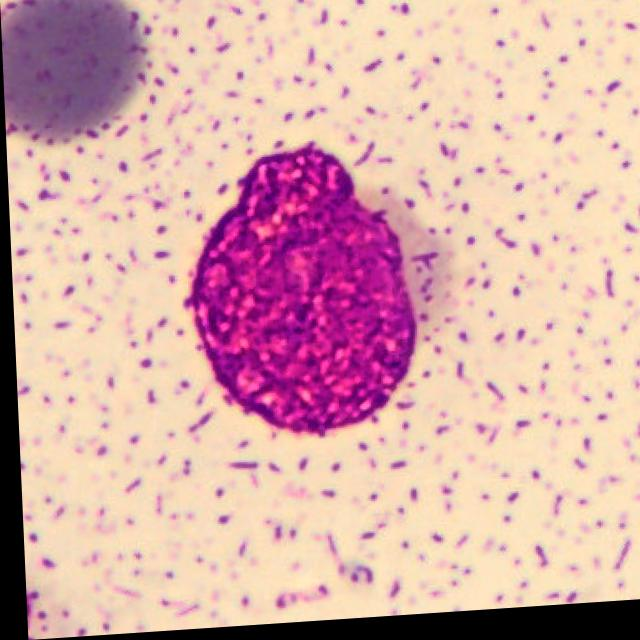Mieloblasto: (180, 149, 413, 443)
